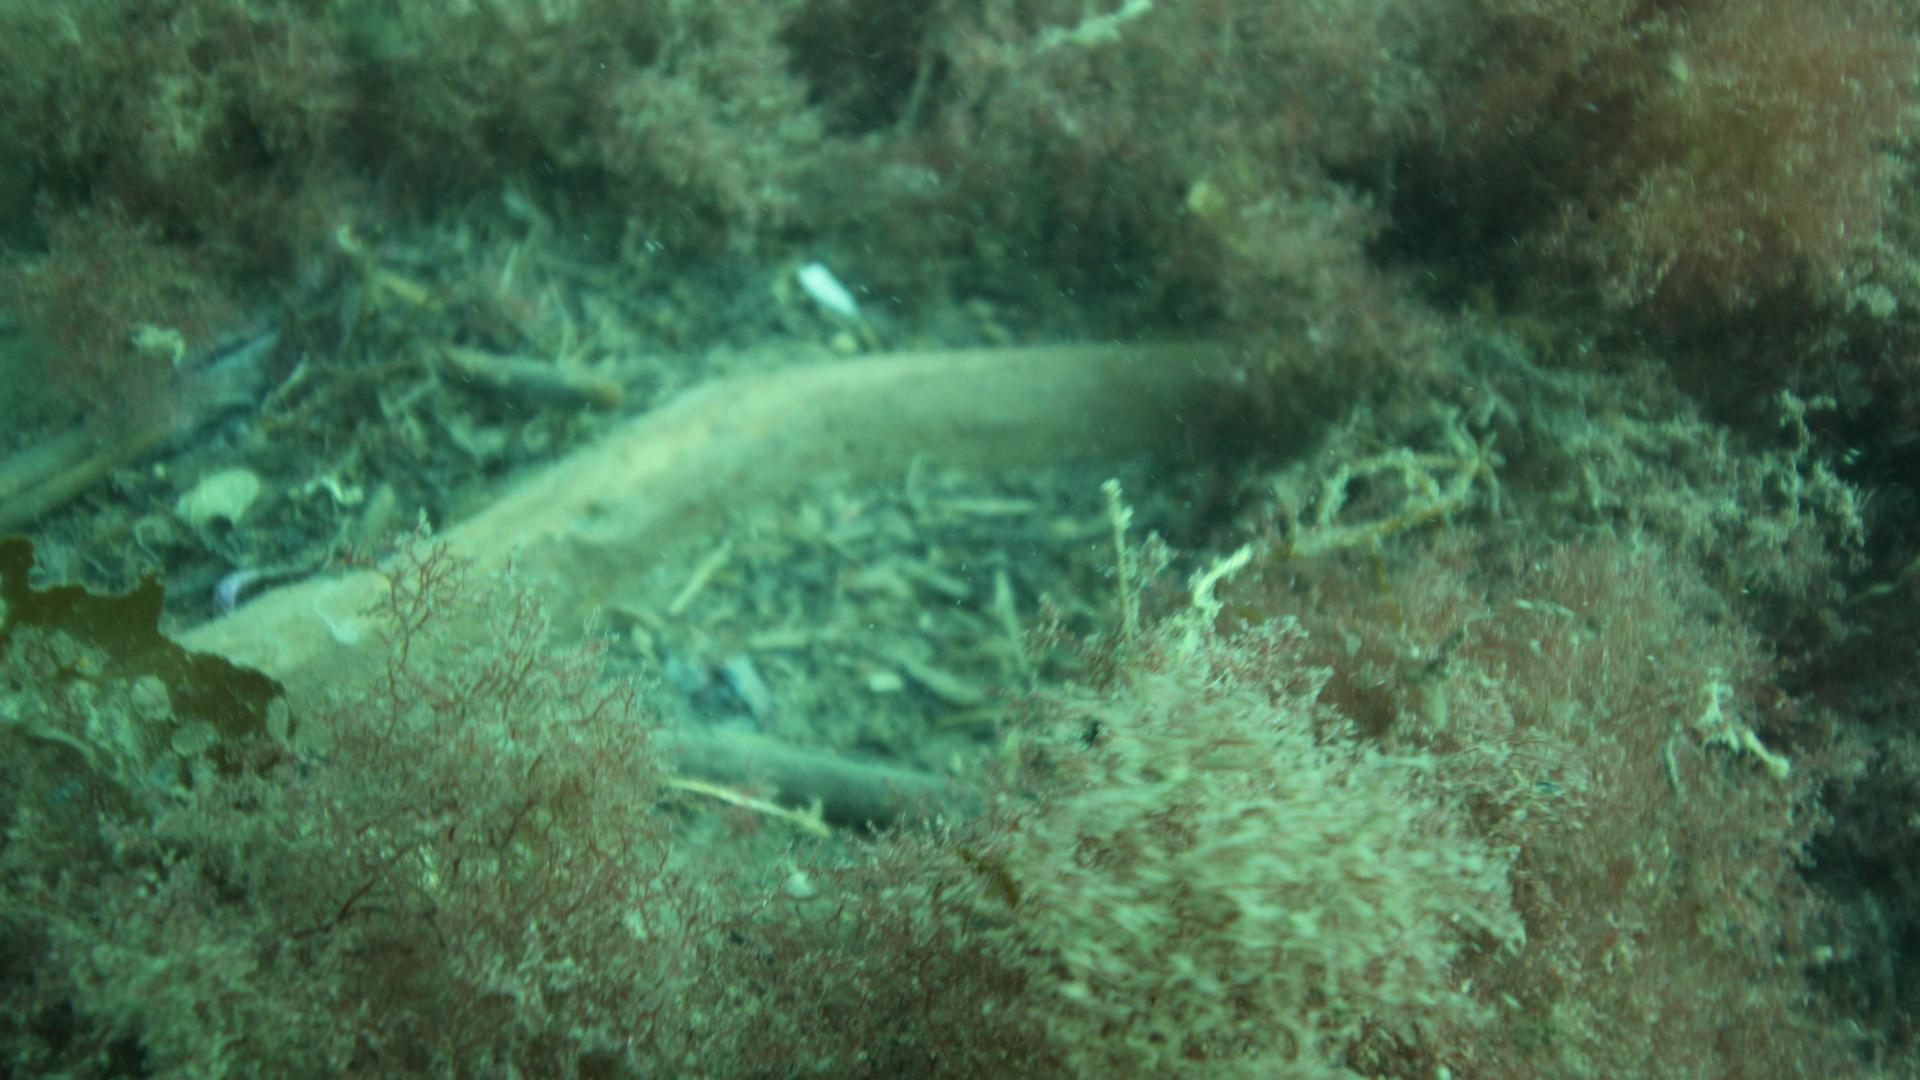wood: (171, 347, 1200, 708)
